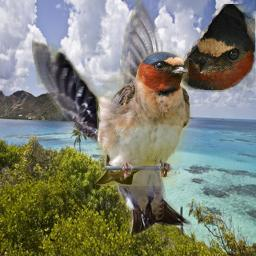Swallow: (32, 0, 192, 235), (94, 51, 193, 186), (178, 4, 255, 92)
